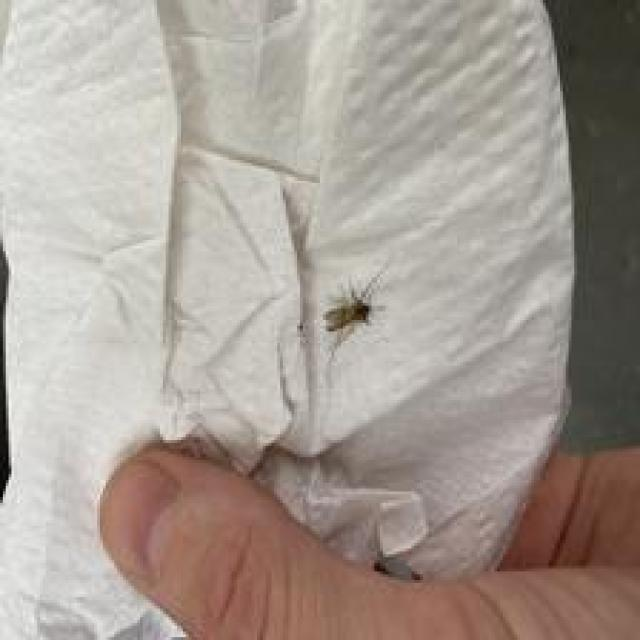Culex: (320, 270, 386, 356)
